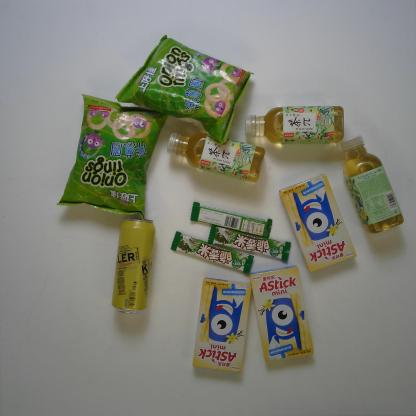Alcohol: (112, 217, 156, 314)
Chocolate: (171, 232, 254, 273), (207, 225, 292, 264), (189, 202, 273, 239)
Dessert: (279, 173, 356, 272), (250, 265, 314, 363), (192, 278, 252, 374)
Drink: (341, 136, 405, 234), (167, 131, 265, 182), (244, 106, 344, 145)
Puffed Food: (115, 35, 255, 146), (57, 94, 173, 220)
